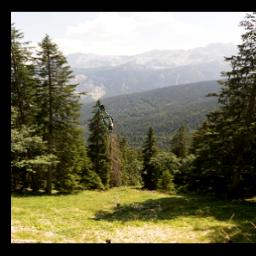Swallow: (97, 104, 113, 131)
